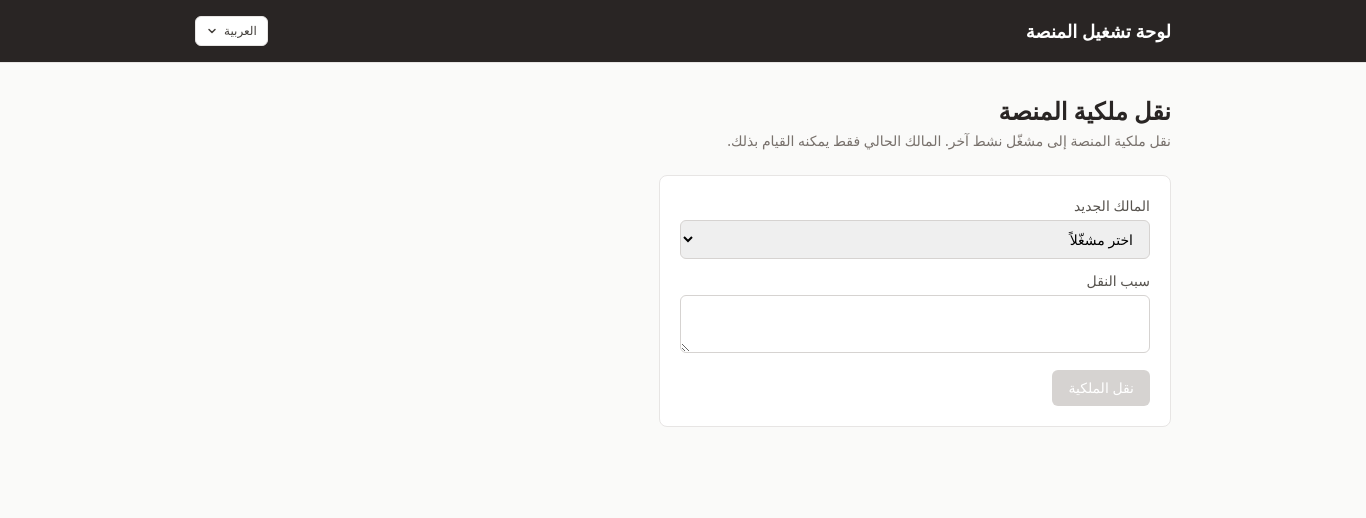
Test: <PlatformOwnershipTransfer/> › submits a transfer and shows the result
Select "خالد (khaled@test.com) — platform_admin" in the dropdown at [915, 240], box [680,220,1150,259]
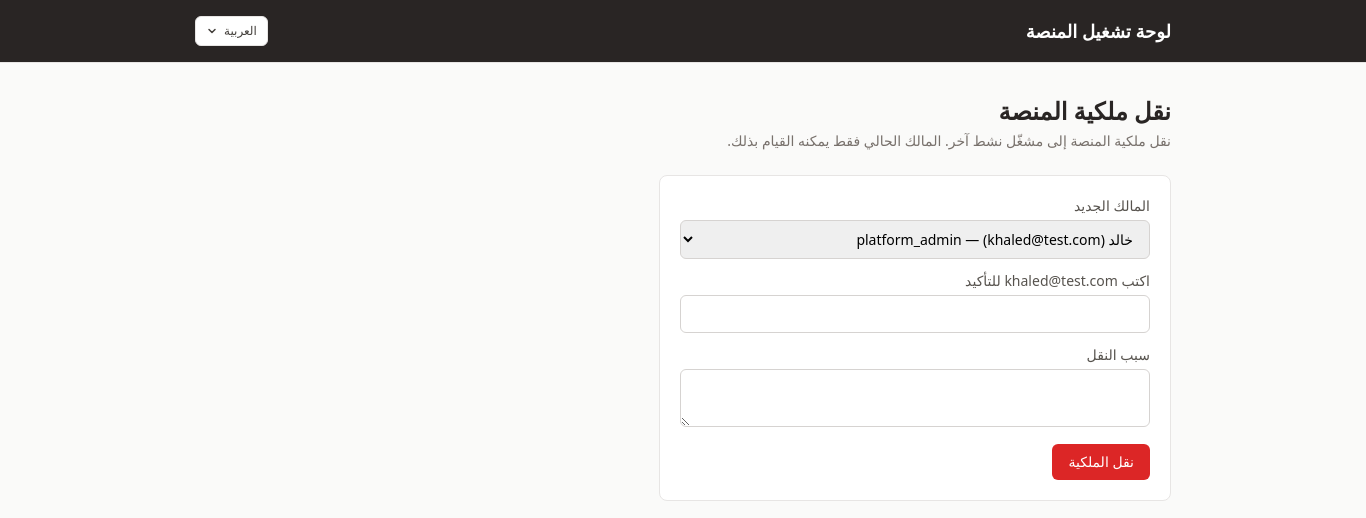
Check: the text "اكتب khaled@test.com للتأكيد" is shown, box [965,271,1150,290]
Type "khaled@test.com" into the field labelled "اكتب khaled@test.com للتأكيد".
click(915, 314); type("khaled@test.com")  # box [680,295,1150,333]
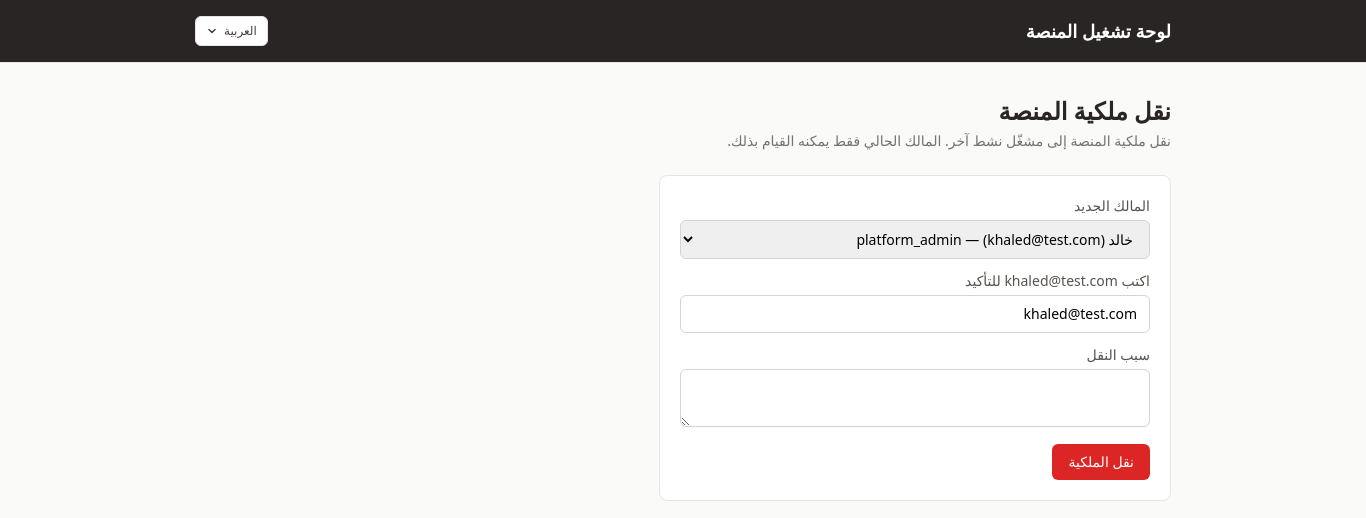
Type "التقاعد" into the text box labelled "سبب النقل".
click(915, 398); type("التقاعد")  # box [680,369,1150,427]
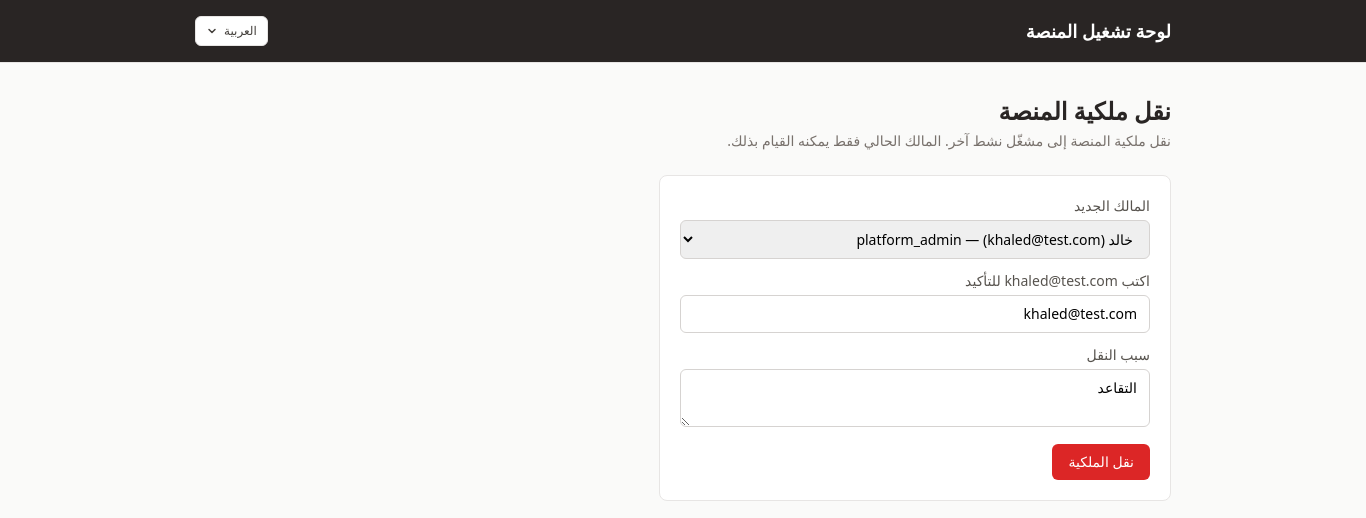
Click the button "نقل الملكية".
click(1101, 462)  # box [1052,444,1150,480]
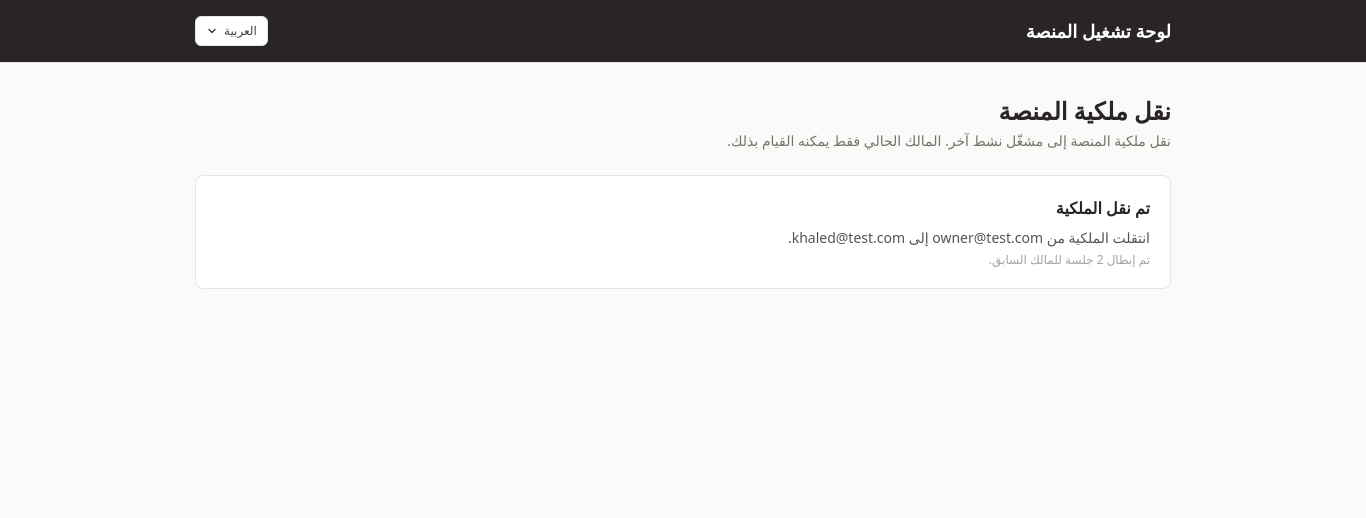
Check: the text "تم نقل الملكية" is shown, box [1056,197,1150,219]
